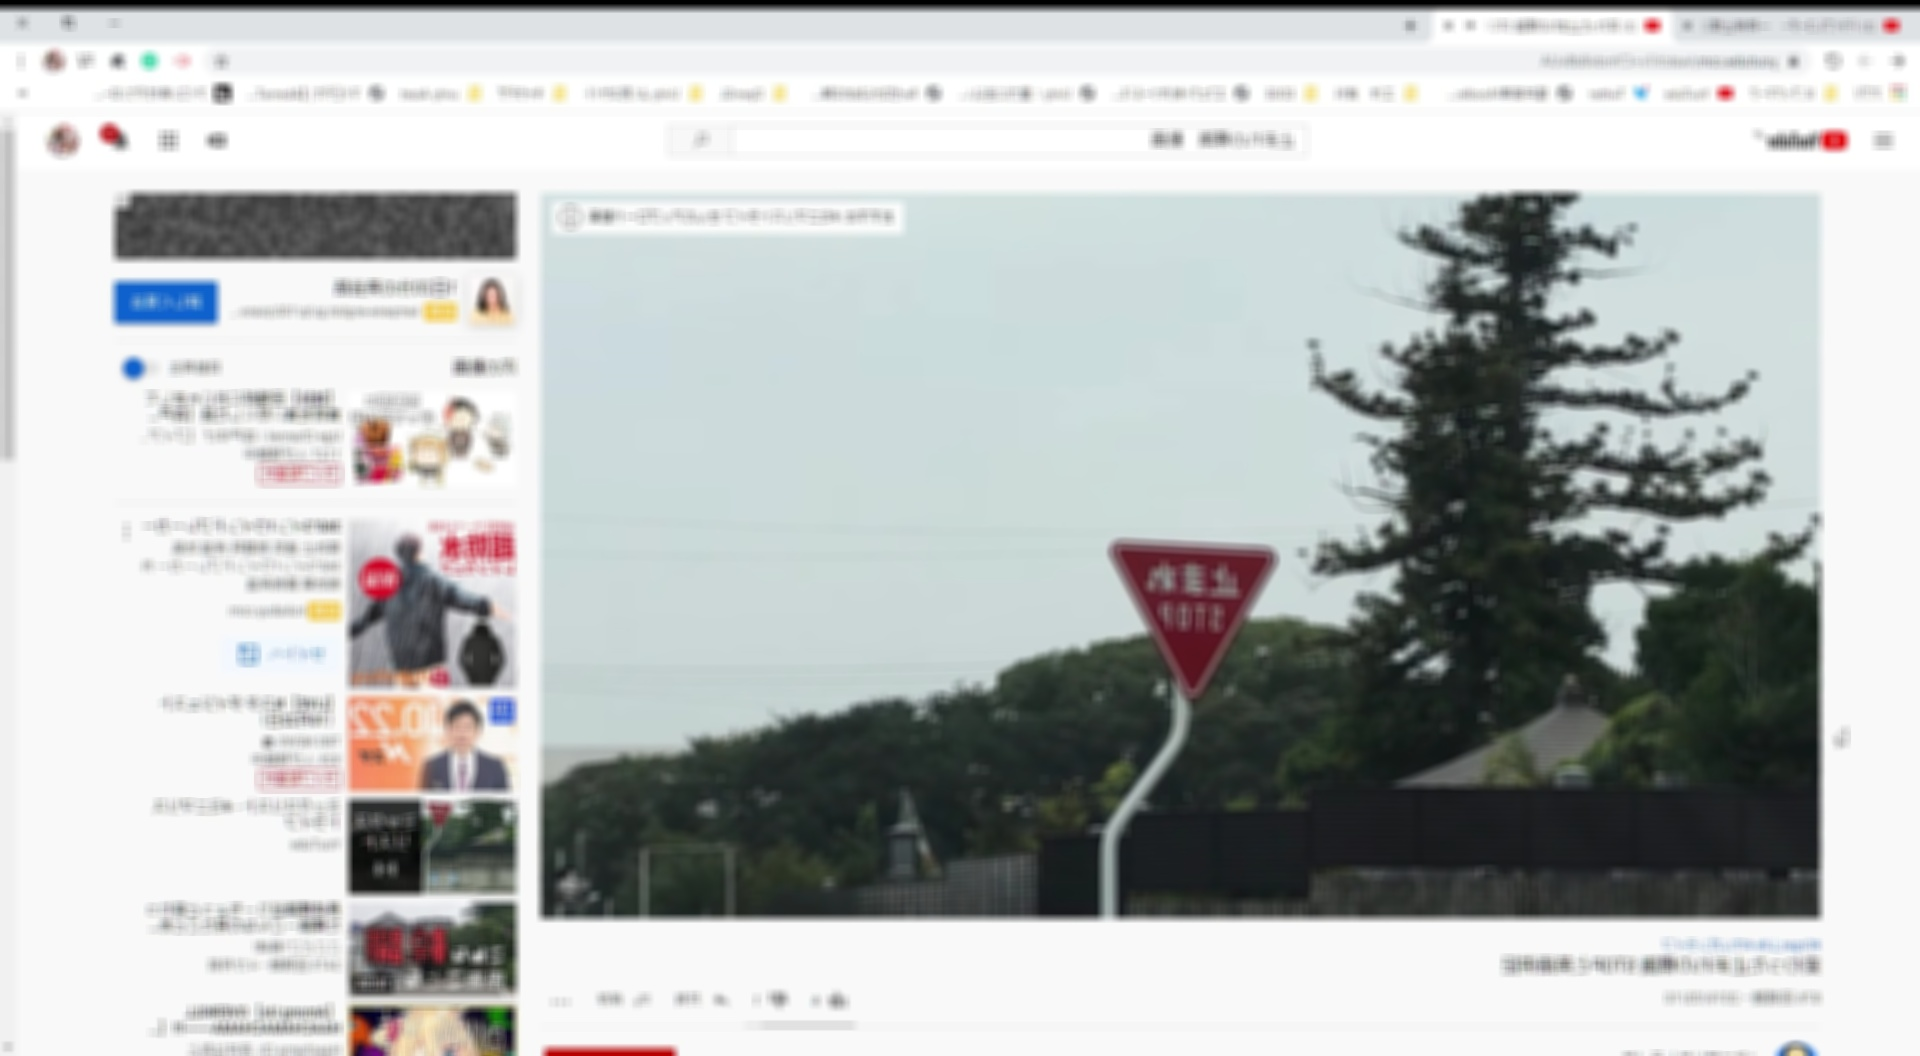Regulatory_sign_triangle: (1097, 519, 1299, 719)
